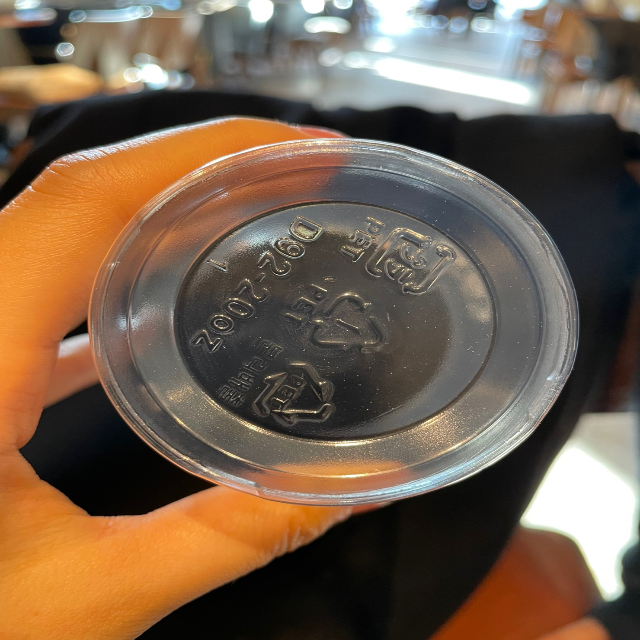pet: (214, 335, 349, 436), (338, 207, 463, 300), (274, 280, 396, 360)
